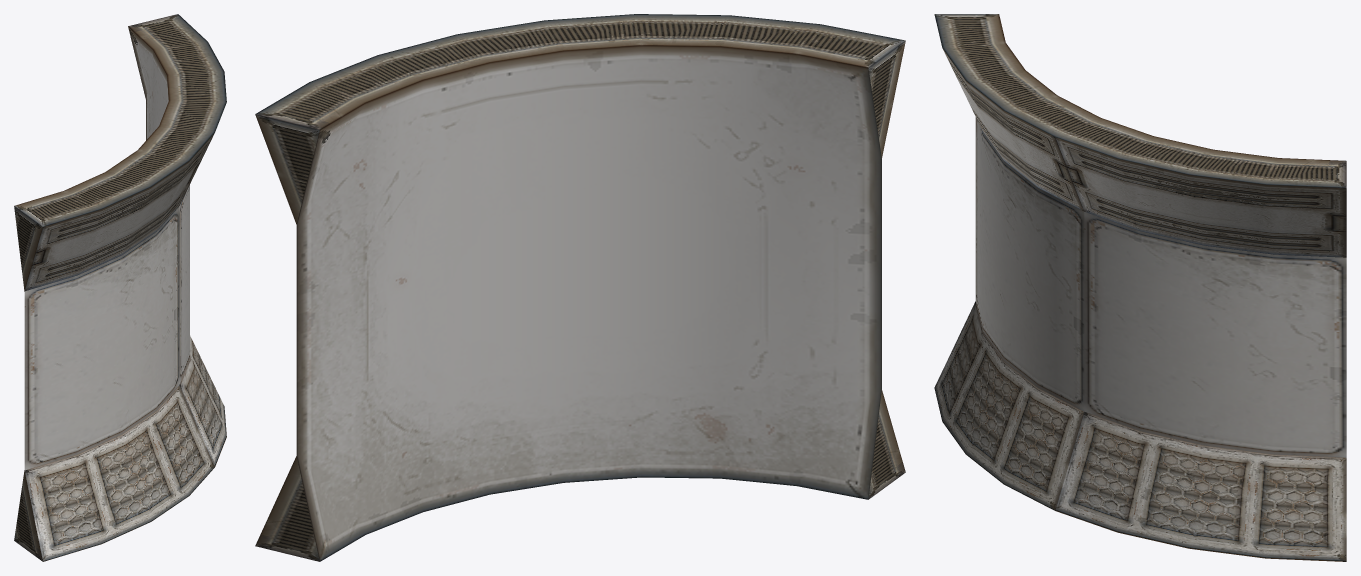
Rendered from scifi_wall_curve1_1.FBX.
3 renders of one model, left to right at view 1: azimuth 30°, elevation 25°; view 2: azimuth 150°, elevation 25°; view 3: azimuth 270°, elevation 25°, orthographic. The views are drawn at different scales.
Visible parts, largest first — view 1: Plane098; view 2: Plane098; view 3: Plane098.
Boxes of the visible parts, x1=… form: Plane098: x1=14, y1=14, x2=226, y2=561; Plane098: x1=255, y1=14, x2=905, y2=561; Plane098: x1=934, y1=14, x2=1346, y2=561.
Bounding box in the file's own units: 254 × 254 × 254.
